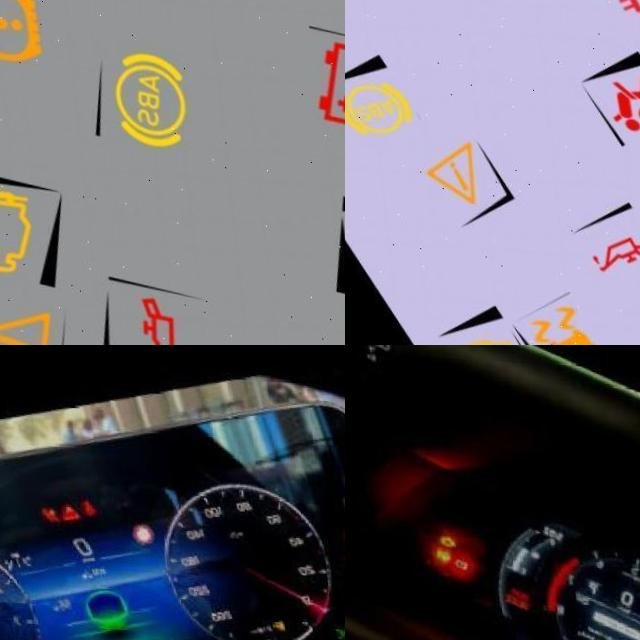Seat Belt: (75, 496, 96, 519)
